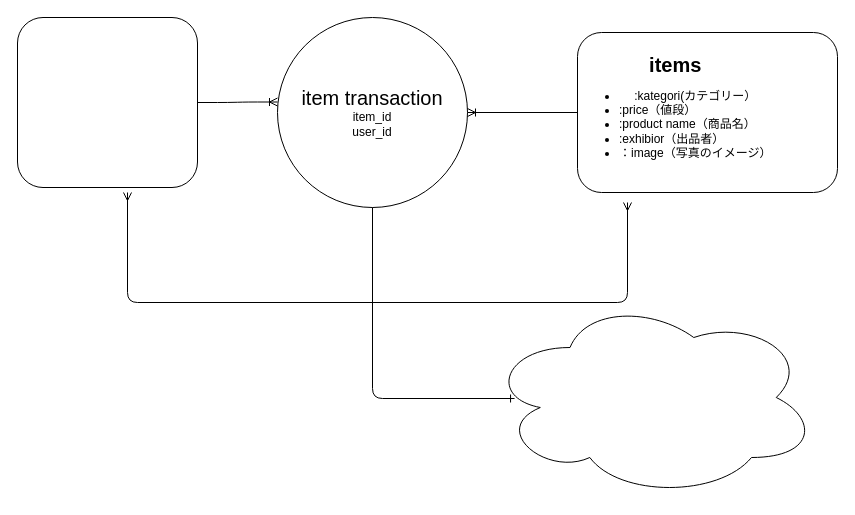
Image size: 855x515. Some labels were removed from this diagram. The box of each missing label's shape, as (x1, y1, x2, y2) in pixels:
delivery_address(配送住所) street_address: (486, 296, 818, 498)
user :name :email :password: (16, 16, 198, 188)
